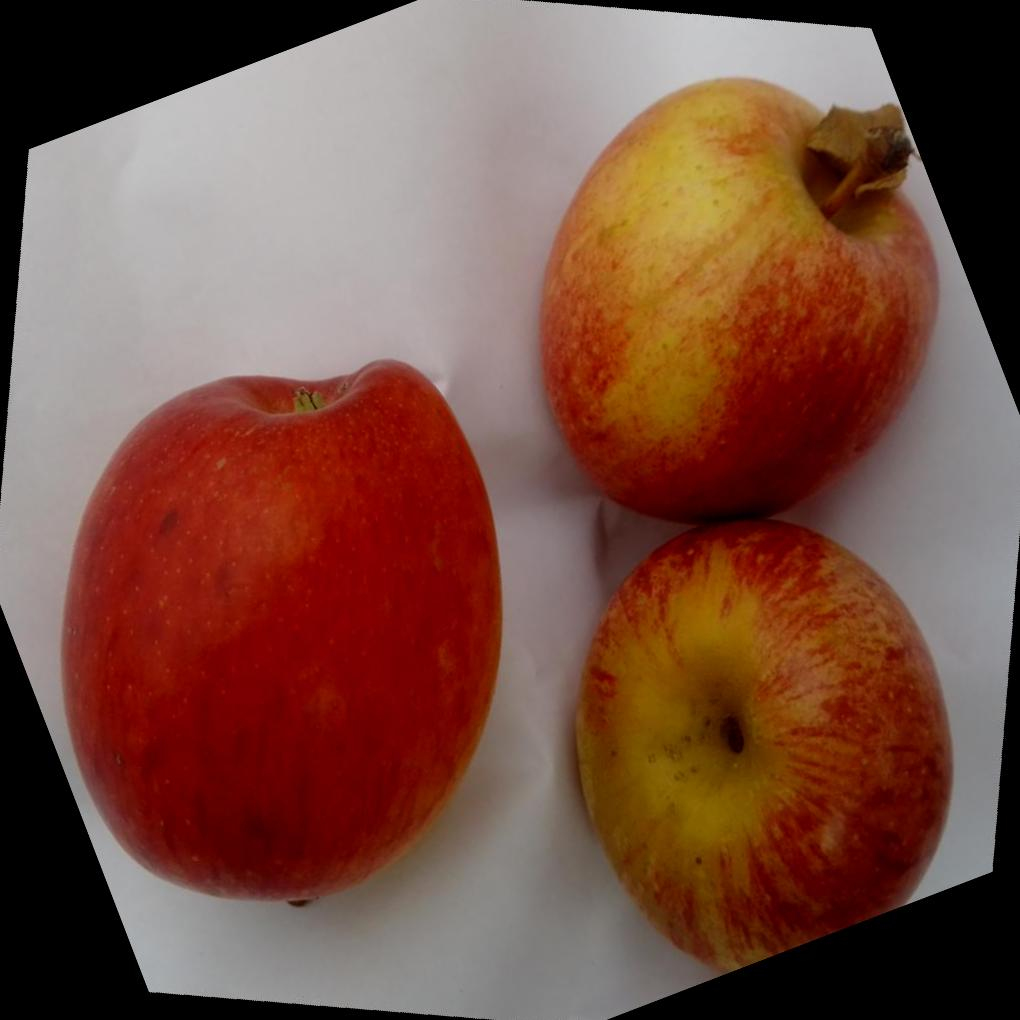FreshGuava: (541, 76, 955, 974), (61, 360, 506, 906)
